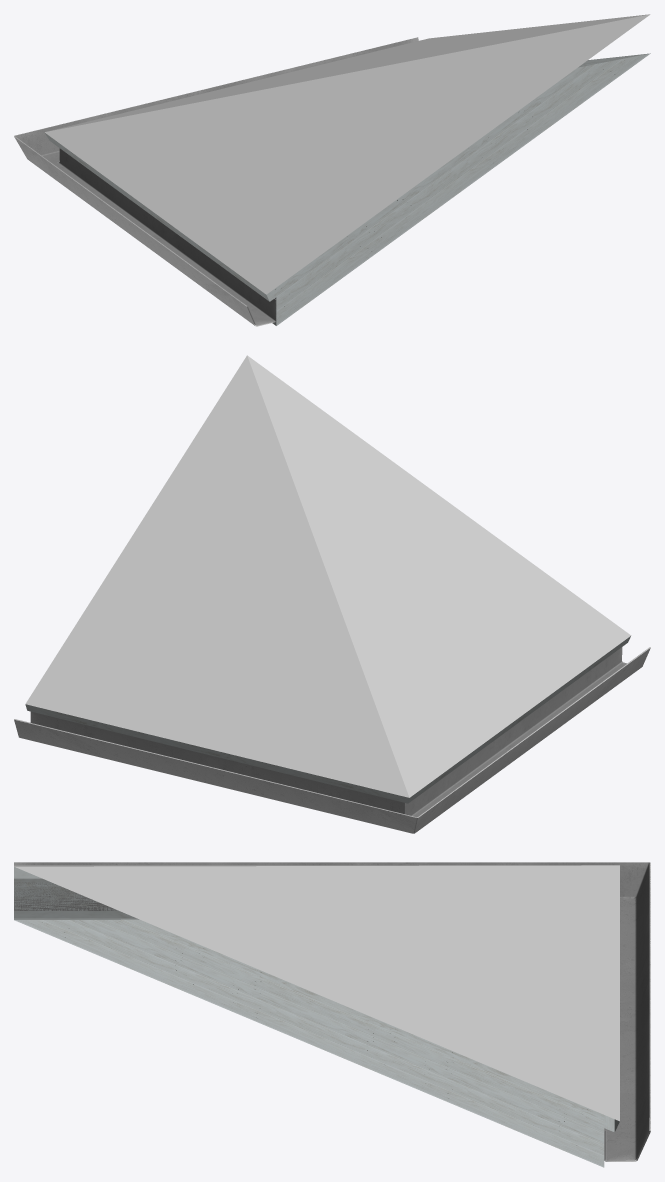
The model's file is SM_Roof_02_Bottom_Corner_01.fbx.
3 renders of one model, top to bottom at view 1: azimuth 30°, elevation 25°; view 2: azimuth 150°, elevation 25°; view 3: azimuth 270°, elevation 25°, orthographic. The views are drawn at different scales.
Parts seen in each view (by area): view 1: SM_Roof_02_Bottom_Corner_01_LOD0; view 2: SM_Roof_02_Bottom_Corner_01_LOD0; view 3: SM_Roof_02_Bottom_Corner_01_LOD0.
Part boxes in pixels (bbox=[...]): SM_Roof_02_Bottom_Corner_01_LOD0: bbox=[14, 14, 650, 326]; SM_Roof_02_Bottom_Corner_01_LOD0: bbox=[14, 355, 650, 833]; SM_Roof_02_Bottom_Corner_01_LOD0: bbox=[14, 862, 650, 1167].
Bounding box in the file's own units: 194 × 194 × 101.
